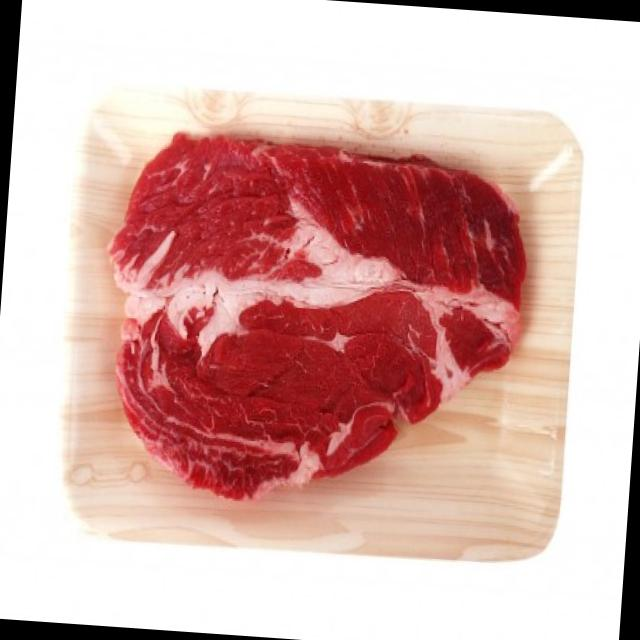beef: (100, 91, 524, 544), (162, 183, 364, 477)
